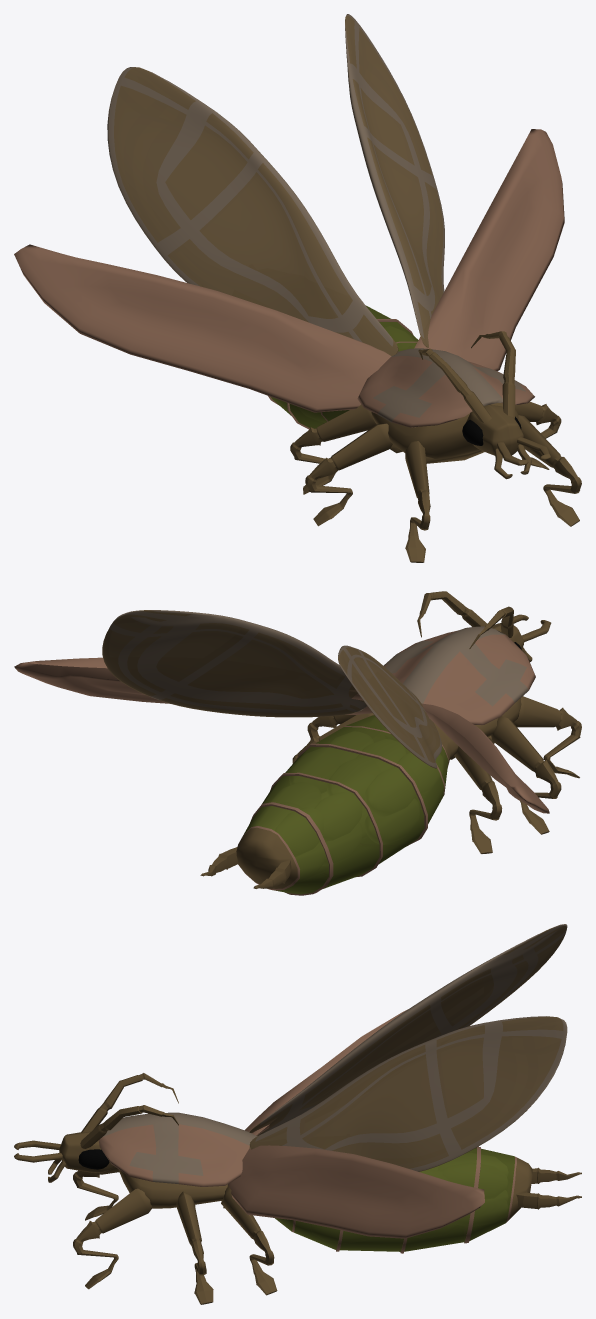
File: queenRoach.fbx
The picture shows the model from 3 angles, top to bottom: view 1: azimuth 30°, elevation 25°; view 2: azimuth 150°, elevation 25°; view 3: azimuth 270°, elevation 25°; orthographic projection. The views are drawn at different scales.
Visible parts, largest first — view 1: polySurface1; view 2: polySurface1; view 3: polySurface1.
Boxes of the visible parts, bbox=[...] form: polySurface1: bbox=[14, 14, 581, 562]; polySurface1: bbox=[14, 591, 581, 895]; polySurface1: bbox=[14, 924, 581, 1304].
Size of the model in its own units: 120 by 68.36 by 124.
